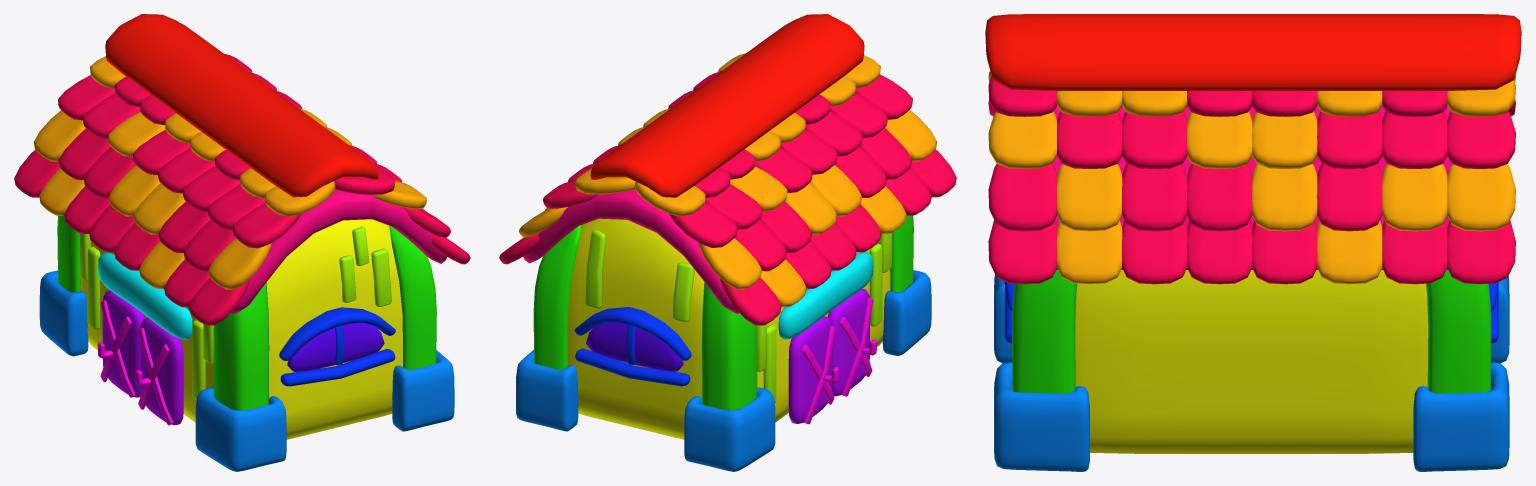
File: grange_separated.fbx
3 views of the same model, side by side, from view 1: azimuth 30°, elevation 25°; view 2: azimuth 150°, elevation 25°; view 3: azimuth 270°, elevation 25° (orthographic). The views are drawn at different scales.
Visible parts, largest first — view 1: grange; view 2: grange; view 3: grange.
Part boxes in pixels (bbox=[...]): grange: bbox=[14, 14, 470, 471]; grange: bbox=[499, 14, 956, 471]; grange: bbox=[985, 14, 1521, 471].
Bounding box in the file's own units: 815 × 639 × 613.
